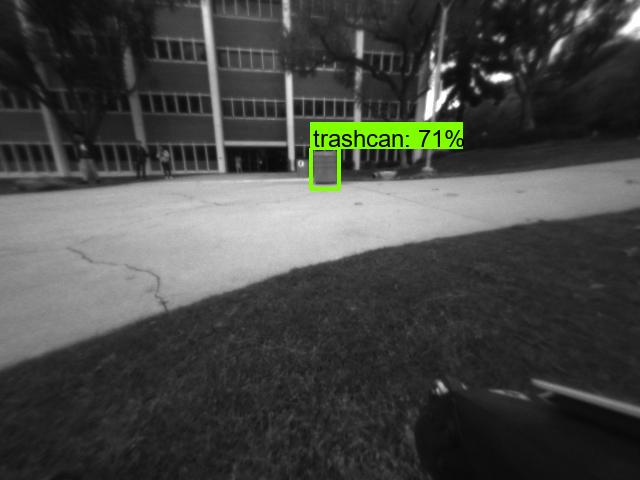trashcan: (312, 150, 341, 185), (296, 155, 312, 179)
